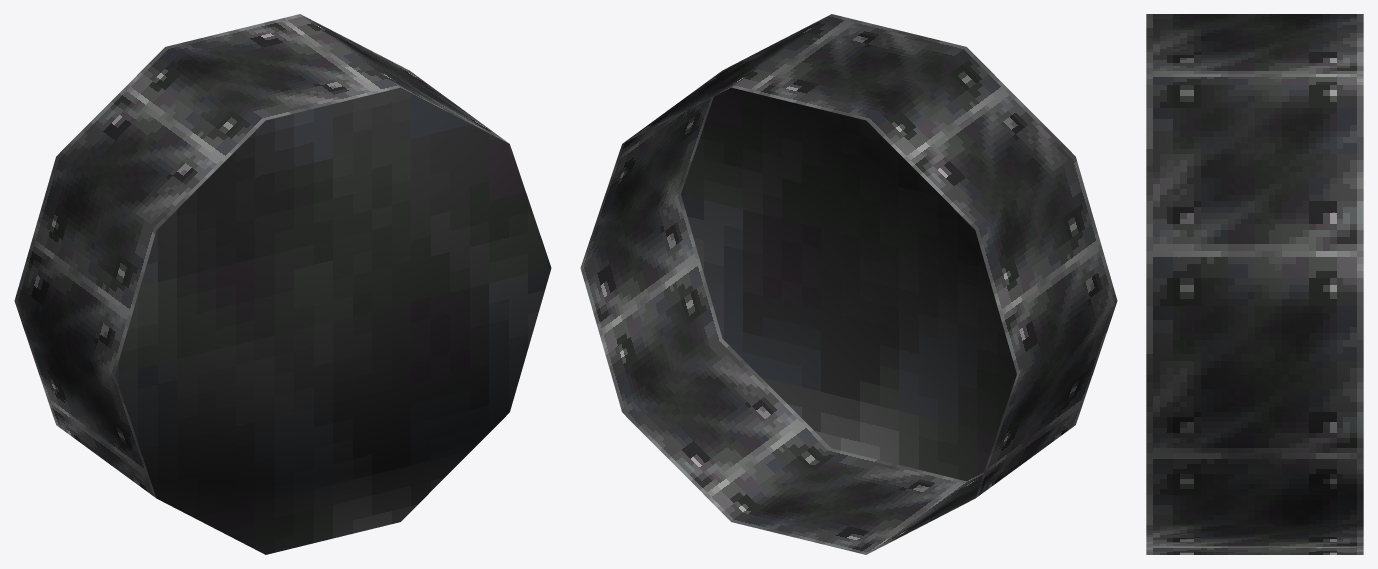
Rendered from HTOWN01_MILLWHEELMOUNT01.obj.
3 renders of one model, left to right at view 1: azimuth 30°, elevation 25°; view 2: azimuth 150°, elevation 25°; view 3: azimuth 270°, elevation 25°, orthographic. The views are drawn at different scales.
Visible parts, largest first — view 1: illWheelMount01; view 2: illWheelMount01; view 3: illWheelMount01.
Boxes of the visible parts, <box> form: illWheelMount01: <box>14,14,551,554</box>; illWheelMount01: <box>580,14,1117,554</box>; illWheelMount01: <box>1146,14,1363,554</box>.
Size of the model in its own units: 89.29 by 84.92 by 35.6.
